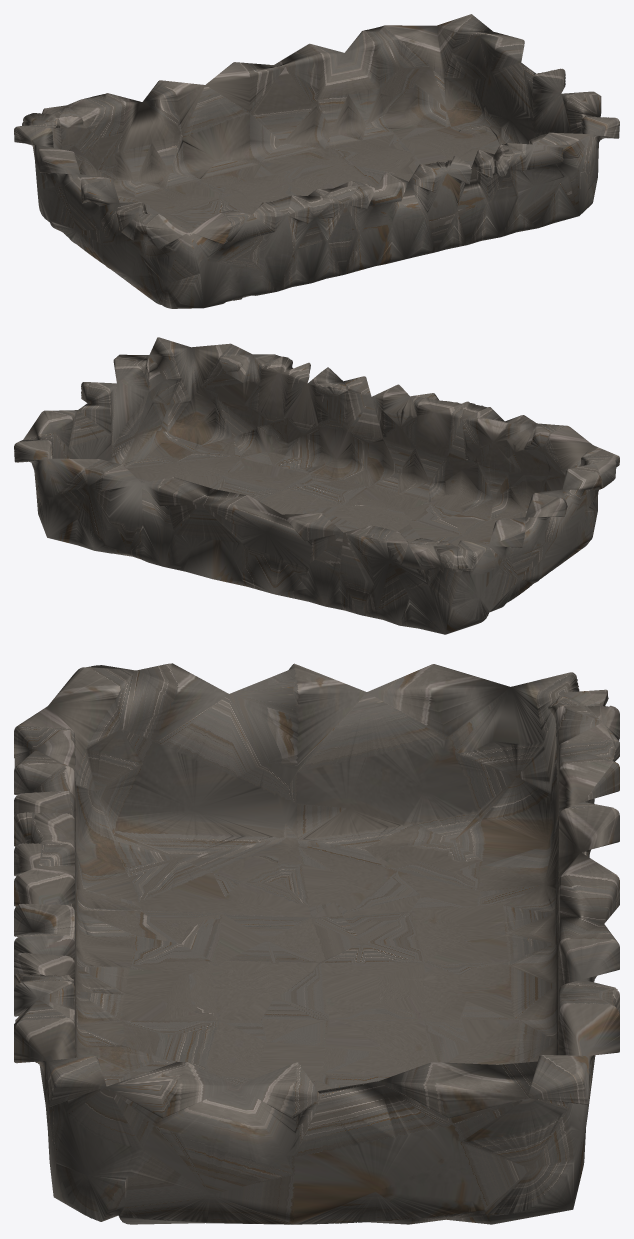
File: EmptyBuffetTray.glb
3 views of the same model, one above another, from view 1: azimuth 30°, elevation 25°; view 2: azimuth 150°, elevation 25°; view 3: azimuth 270°, elevation 25° (orthographic). The views are drawn at different scales.
Visible parts, largest first — view 1: EmptyBuffetTray; view 2: EmptyBuffetTray; view 3: EmptyBuffetTray.
Part boxes in pixels (x1,y1,x2,y2): EmptyBuffetTray: (14, 14, 619, 308); EmptyBuffetTray: (14, 337, 619, 634); EmptyBuffetTray: (14, 663, 619, 1224).
Size of the model in its own units: 1.9 by 0.3541 by 1.14.
Materials: 1 (1 with a texture image).
